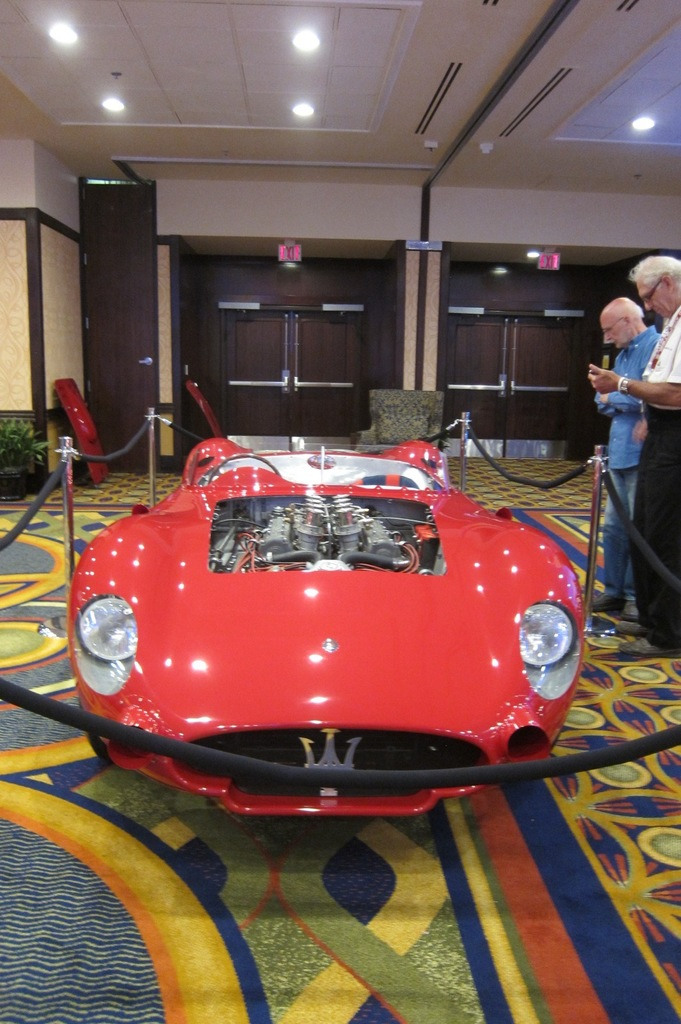Car: (60, 420, 593, 787)
